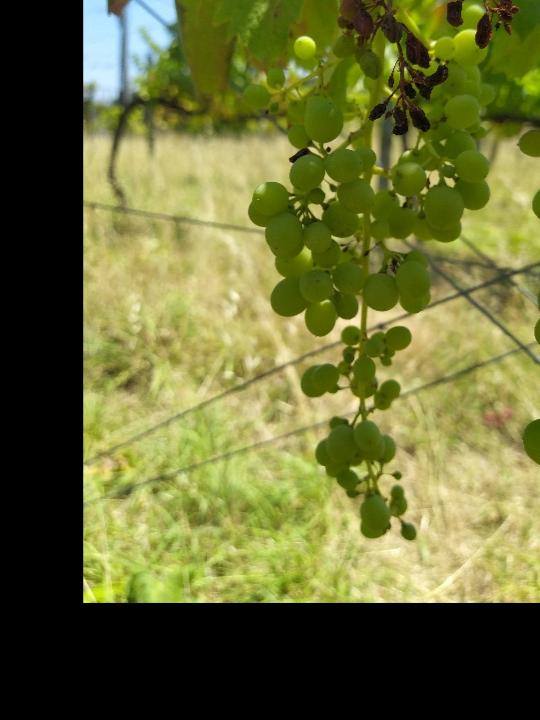grape: (241, 6, 499, 549), (334, 0, 522, 141)
